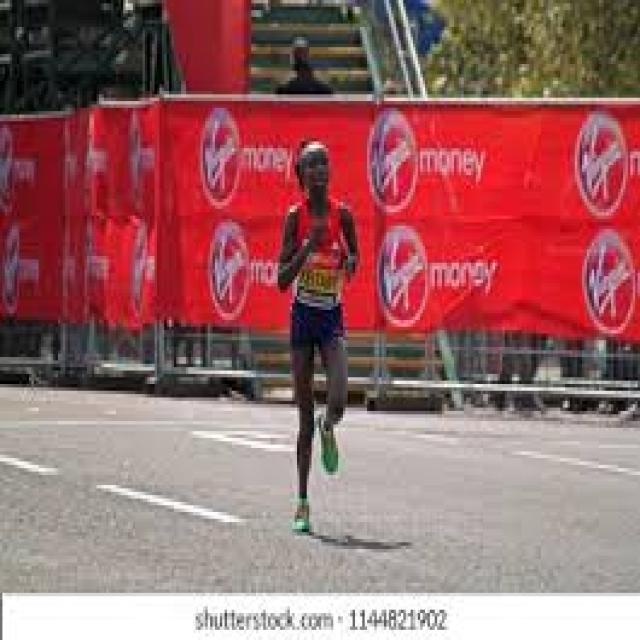running: (273, 138, 362, 538)
